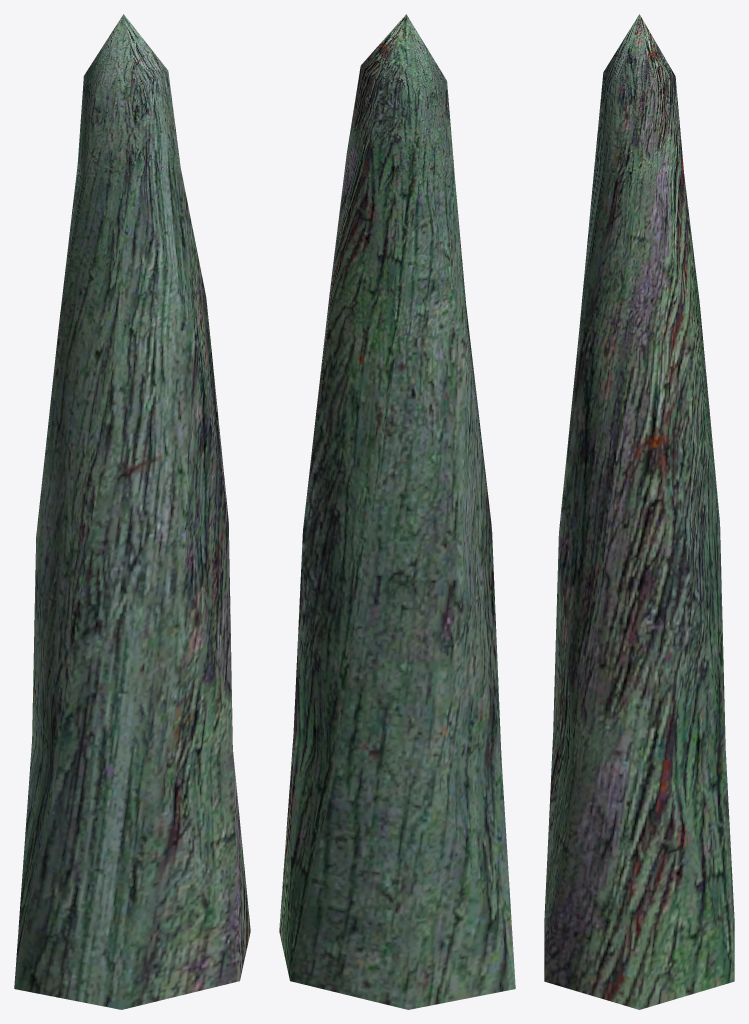
The model's file is decd_treeknee_a2_l0.fbx.
3 views of the same model, side by side, from view 1: azimuth 30°, elevation 25°; view 2: azimuth 150°, elevation 25°; view 3: azimuth 270°, elevation 25° (orthographic).
Parts seen in each view (by area): view 1: mesh_node; view 2: mesh_node; view 3: mesh_node.
Part boxes in pixels (left/top/right/bottom): mesh_node: left=14, top=14, right=250, bottom=1009; mesh_node: left=279, top=14, right=515, bottom=1009; mesh_node: left=544, top=14, right=734, bottom=1009.
Bounding box in the file's own units: 1.52 × 5.83 × 1.08.
